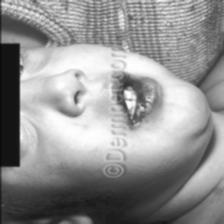Toxin: (54, 148, 96, 186), (81, 75, 107, 115), (128, 152, 158, 183), (178, 88, 202, 118), (201, 181, 224, 204)
